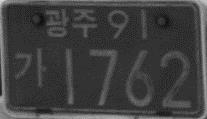1: (61, 46, 77, 105), (139, 8, 152, 41)
2: (160, 48, 191, 110)
6: (124, 47, 156, 108)
7: (86, 46, 118, 106)
9: (105, 7, 129, 41)
가: (12, 45, 49, 90)
광주_O: (42, 4, 97, 38)
